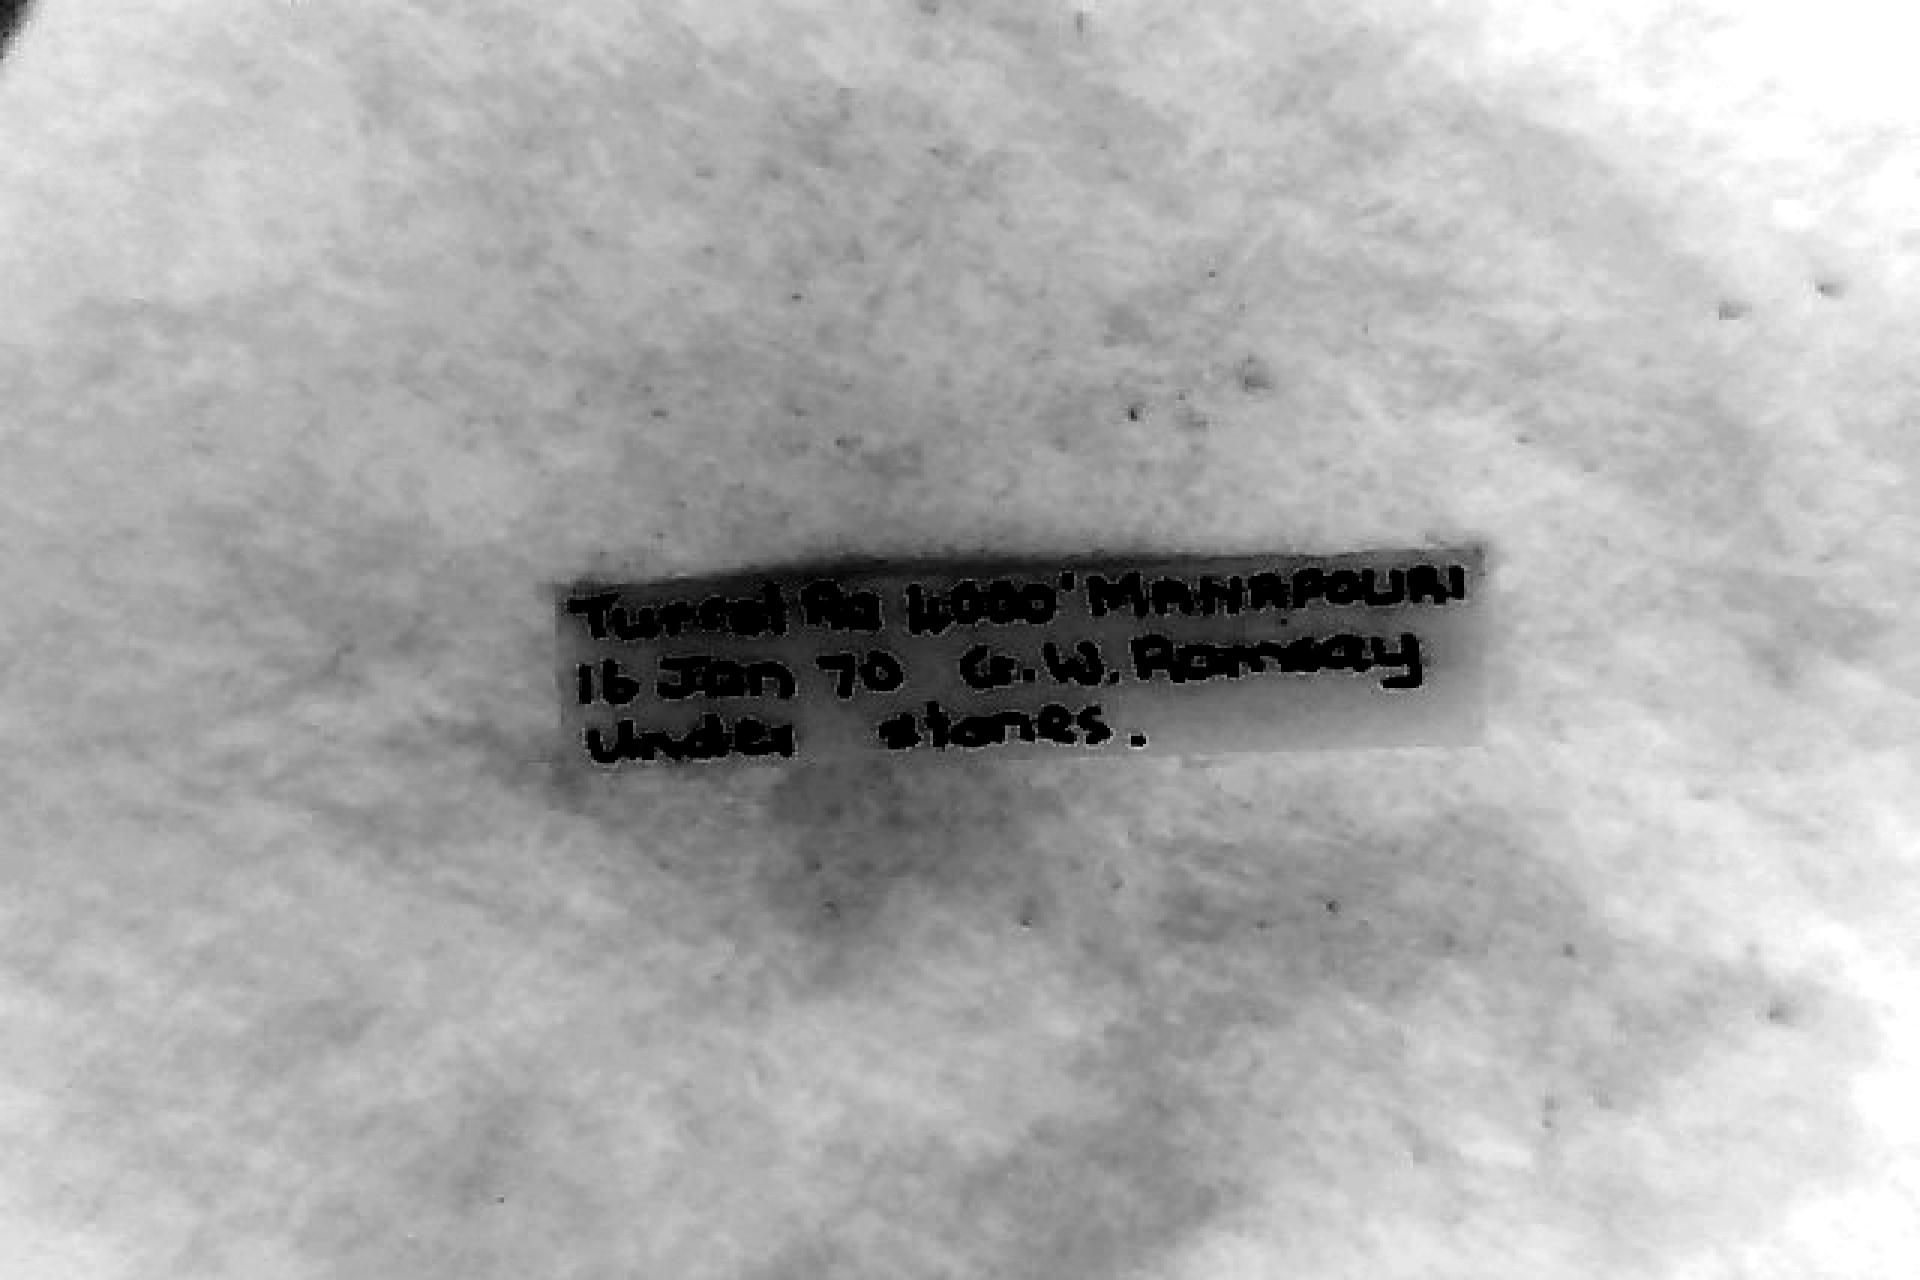hand_label: (561, 547, 1485, 768)
